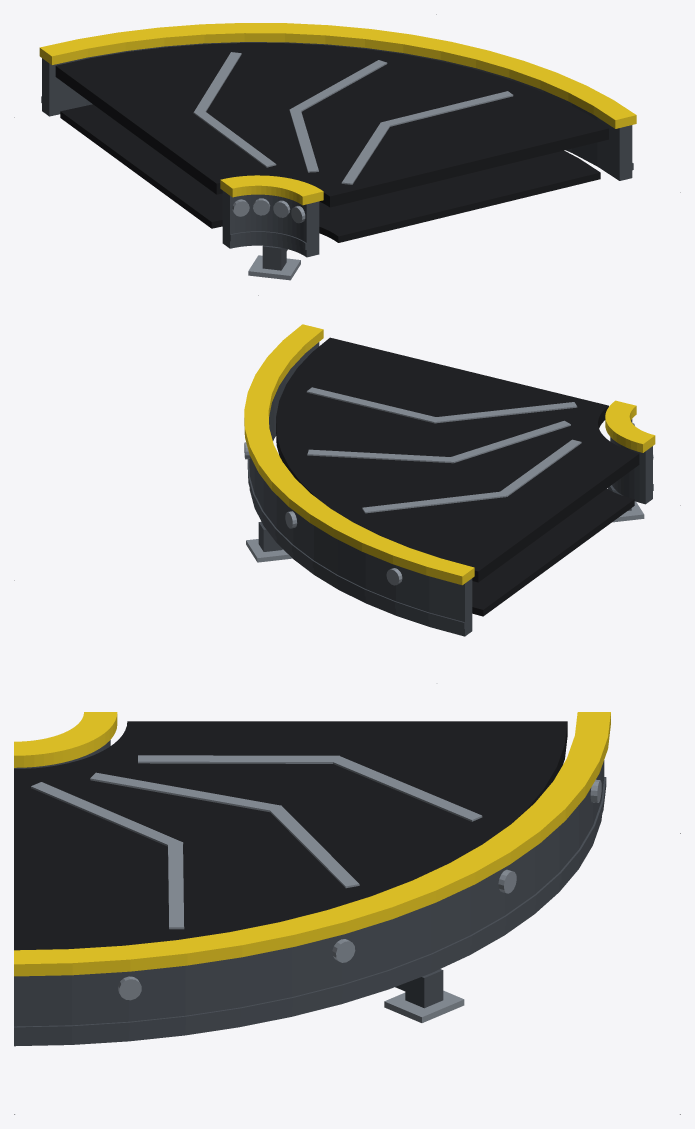
Rendered from convoyeur_virage_inverse_t1.glb.
The picture shows the model from 3 angles, top to bottom: view 1: azimuth 30°, elevation 25°; view 2: azimuth 150°, elevation 25°; view 3: azimuth 270°, elevation 25°; orthographic projection. The views are drawn at different scales.
Parts seen in each view (by area): view 1: bande_porteuse.024, bande_retour.024, rive_1.024, bande_acier.042, longeron_1.024, longeron_-1.024, rive_-1.024, pieces_acier.048, nervure_-1.012, pieces_acier_sombre.016; view 2: bande_porteuse.024, longeron_1.024, rive_1.024, bande_retour.024, bande_acier.042, nervure_1.012, rive_-1.024, longeron_-1.024, pieces_acier.048; view 3: bande_porteuse.024, longeron_1.024, rive_1.024, bande_acier.042, nervure_1.012, rive_-1.024, pieces_acier.048, pieces_acier_sombre.016.
Part boxes in pixels (x1=…): bande_porteuse.024: x1=55, y1=43, x2=608, y2=207; bande_retour.024: x1=60, y1=104, x2=600, y2=242; rive_1.024: x1=39, y1=23, x2=636, y2=128; bande_acier.042: x1=193, y1=52, x2=513, y2=184; longeron_1.024: x1=42, y1=42, x2=632, y2=180; longeron_-1.024: x1=222, y1=190, x2=319, y2=257; rive_-1.024: x1=220, y1=175, x2=323, y2=205; pieces_acier.048: x1=232, y1=198, x2=305, y2=280; nervure_-1.012: x1=230, y1=231, x2=307, y2=249; pieces_acier_sombre.016: x1=262, y1=245, x2=287, y2=270; bande_porteuse.024: x1=276, y1=337, x2=639, y2=582; longeron_1.024: x1=249, y1=342, x2=472, y2=636; rive_1.024: x1=244, y1=324, x2=474, y2=585; bande_retour.024: x1=472, y1=488, x2=634, y2=616; bande_acier.042: x1=306, y1=387, x2=581, y2=513; nervure_1.012: x1=247, y1=459, x2=465, y2=629; rive_-1.024: x1=605, y1=400, x2=655, y2=452; longeron_-1.024: x1=610, y1=419, x2=652, y2=504; pieces_acier.048: x1=244, y1=423, x2=653, y2=585; bande_porteuse.024: x1=14, y1=721, x2=567, y2=950; longeron_1.024: x1=14, y1=760, x2=604, y2=1046; rive_1.024: x1=14, y1=712, x2=610, y2=976; bande_acier.042: x1=31, y1=755, x2=482, y2=929; nervure_1.012: x1=14, y1=777, x2=606, y2=1036; rive_-1.024: x1=14, y1=712, x2=117, y2=767; pieces_acier.048: x1=118, y1=779, x2=601, y2=1022; pieces_acier_sombre.016: x1=395, y1=969, x2=443, y2=1008.
Bounding box in the file's own units: 1 × 0.2 × 1.
